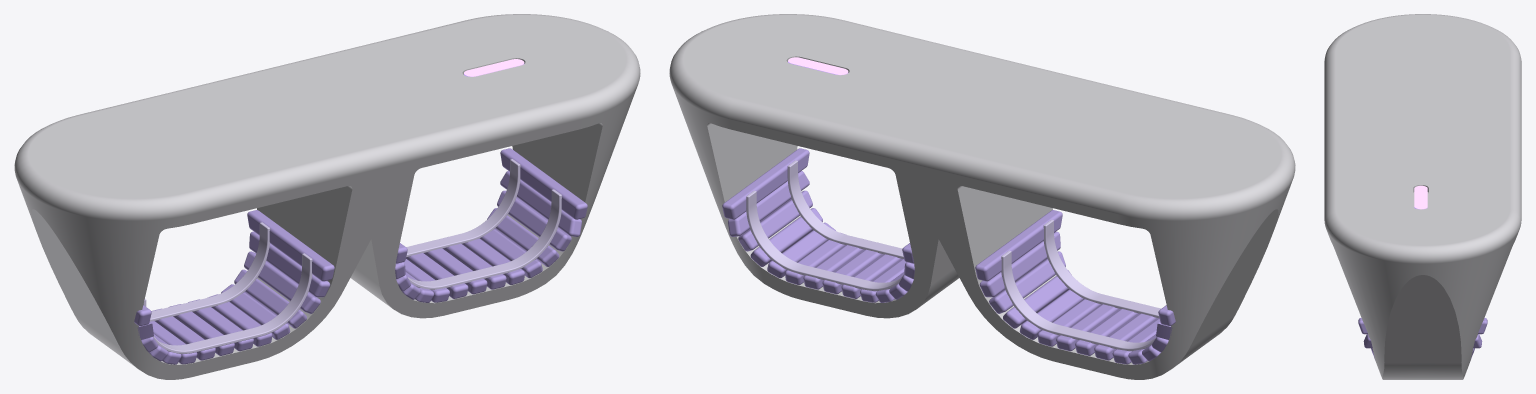
Rendered from p03-echo-ring.glb.
3 renders of one model, left to right at view 1: azimuth 30°, elevation 25°; view 2: azimuth 150°, elevation 25°; view 3: azimuth 270°, elevation 25°, orthographic. The views are drawn at different scales.
Parts seen in each view (by area): view 1: body, pad, rail; view 2: body, pad, rail; view 3: body, pad, led.
Part boxes in pixels (x1=…): body: x1=14, y1=14, x2=640, y2=379; pad: x1=134, y1=148, x2=587, y2=364; rail: x1=143, y1=159, x2=561, y2=353; body: x1=669, y1=14, x2=1295, y2=379; pad: x1=722, y1=148, x2=1175, y2=364; rail: x1=746, y1=160, x2=1160, y2=351; body: x1=1324, y1=14, x2=1521, y2=379; pad: x1=1358, y1=318, x2=1487, y2=358; led: x1=1414, y1=185, x2=1427, y2=209.
Bounding box in the file's own units: 0.0593 × 0.0205 × 0.0206.
